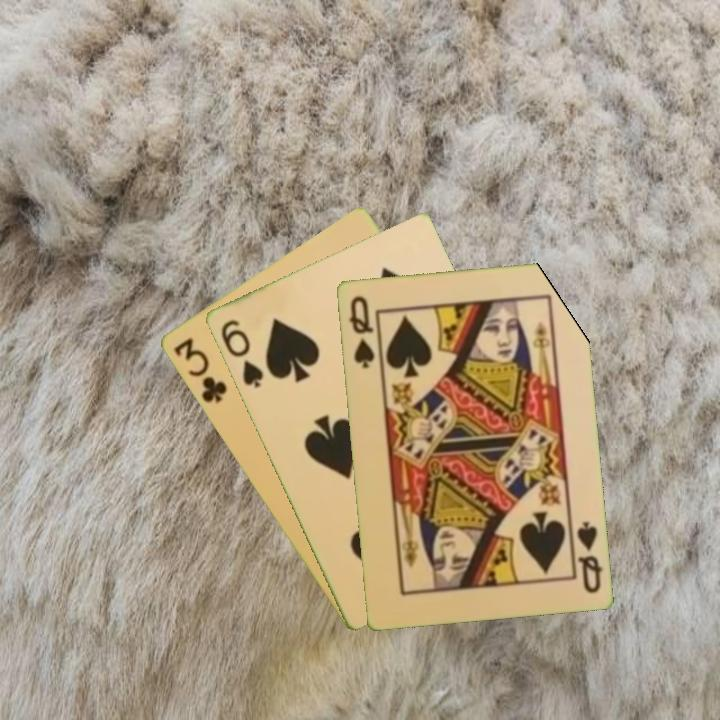3c: (170, 334, 230, 406)
6s: (216, 316, 266, 391)
Qs: (567, 517, 606, 596), (345, 292, 377, 371)
